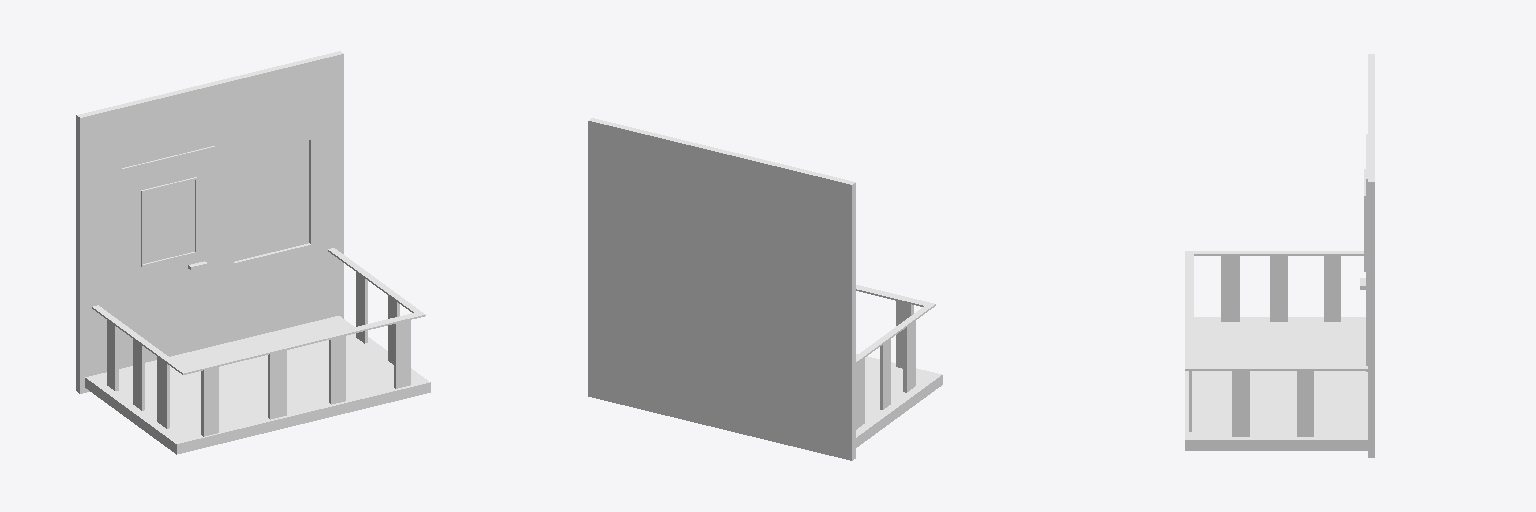
The model's file is balcony1-2-lod1.obj.
3 renders of one model, left to right at view 1: azimuth 30°, elevation 25°; view 2: azimuth 150°, elevation 25°; view 3: azimuth 270°, elevation 25°, orthographic.
Parts seen in each view (by area): view 1: lod1; view 2: lod1; view 3: lod1.
Boxes of the visible parts, <box> form: lod1: <box>76,51,430,454</box>; lod1: <box>588,118,942,460</box>; lod1: <box>1185,54,1374,457</box>.
Bounding box in the file's own units: 16 × 16 × 10.